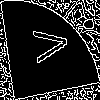V: (24, 24, 69, 65)
